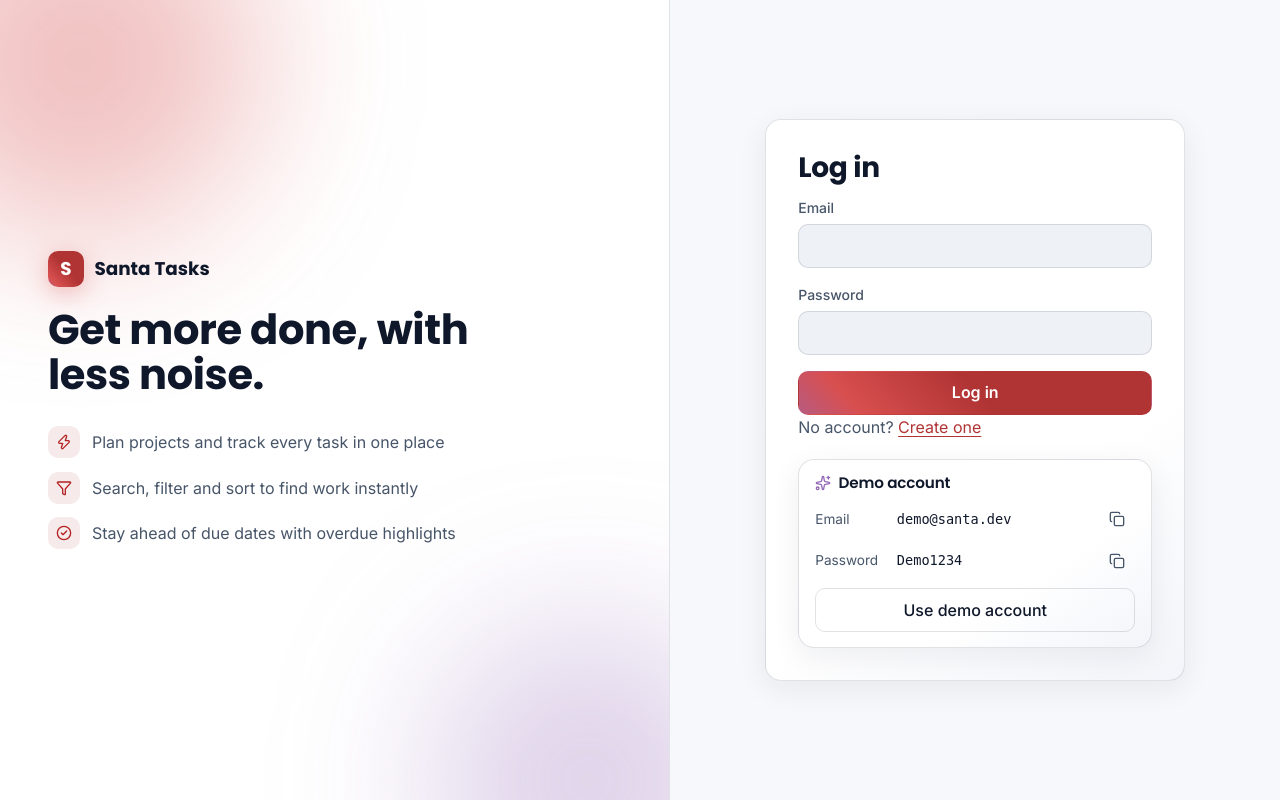
LoginPage › shows inline validation errors and does not submit invalid data
This screenshot has width=1280, height=800.
In the field labelled "Email": (975, 246) [798,224,1152,268], type "not-an-email"
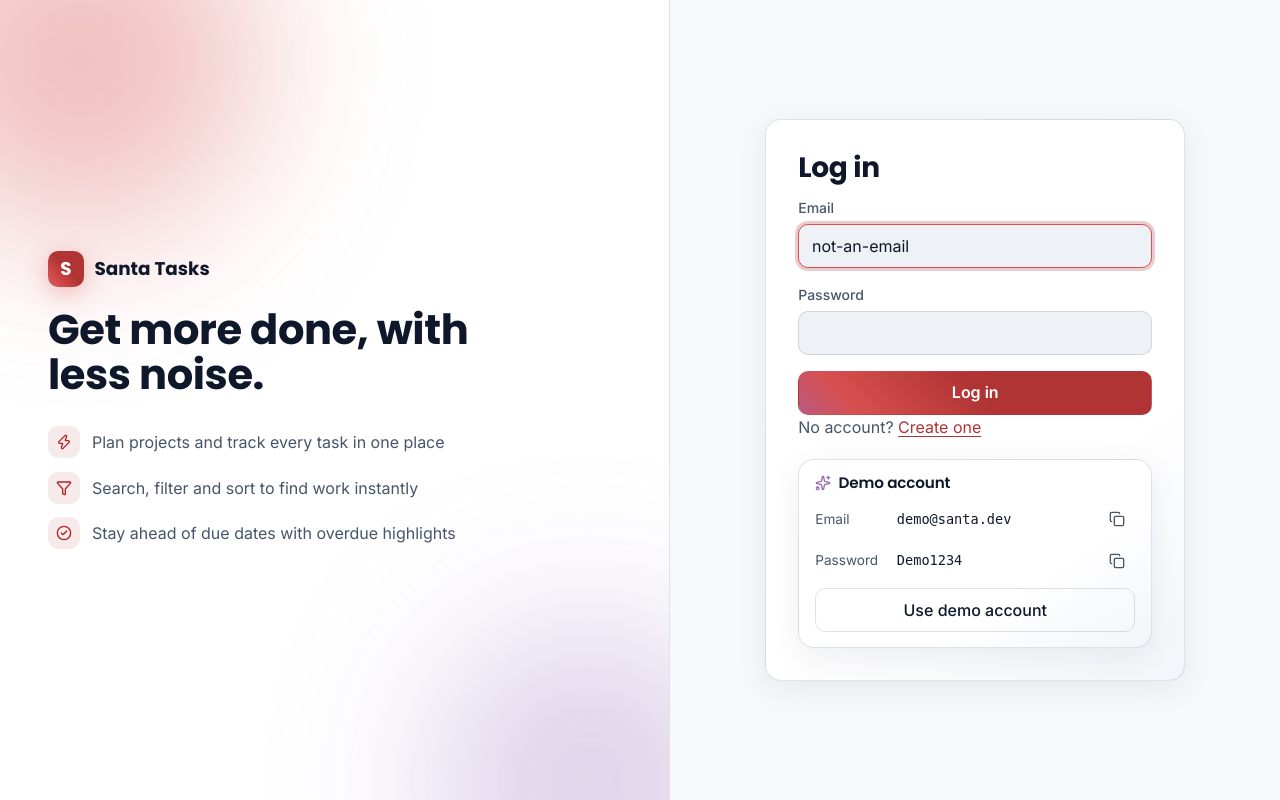
Click the button "Log in": (975, 393) [798,371,1152,415]
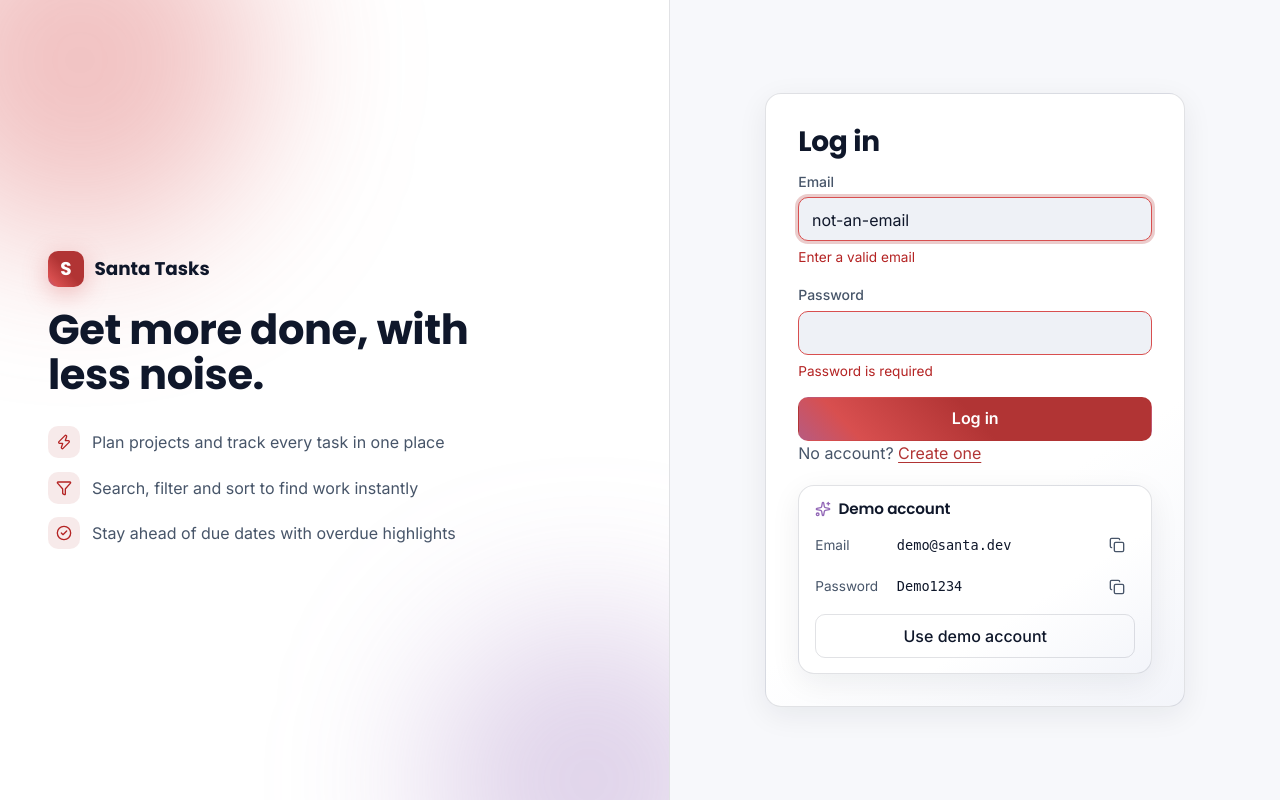
Expected: the text "Enter a valid email" is shown, [798,249,915,265]
Expected: the text "Password is required" is shown, [798,363,933,379]
